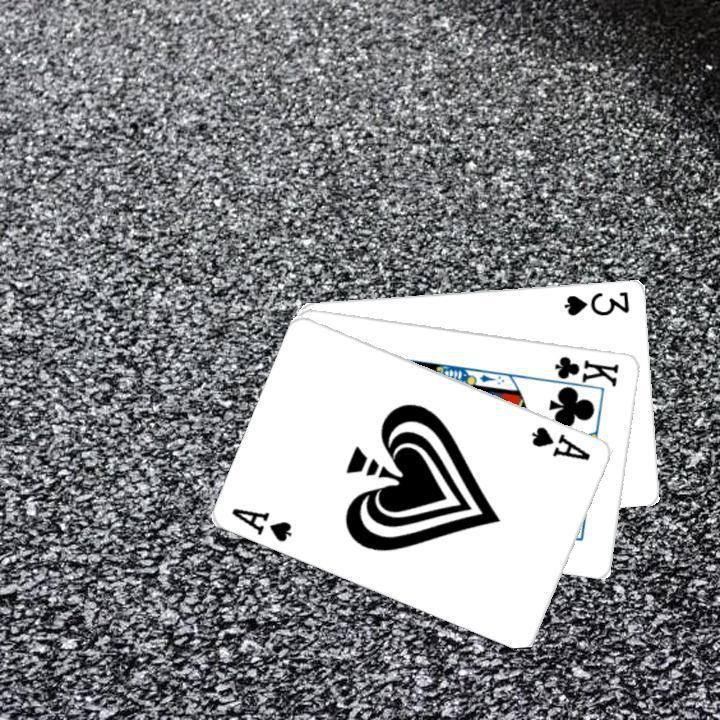3: (560, 286, 632, 317)
A: (227, 503, 295, 544), (528, 422, 593, 462)
K: (542, 351, 621, 393)
